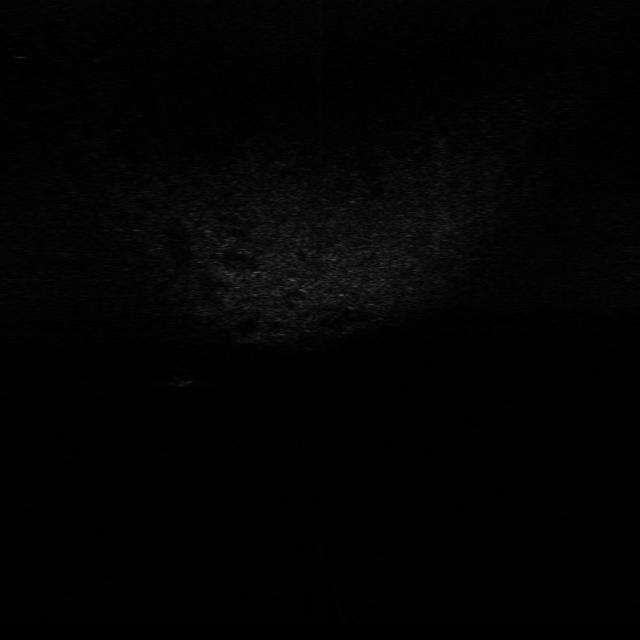ball: (164, 359, 200, 389)
